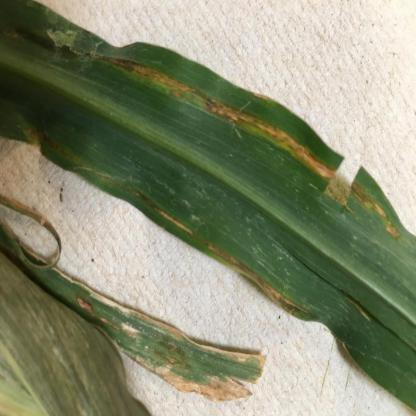corn leaf blight: (5, 2, 414, 310)
